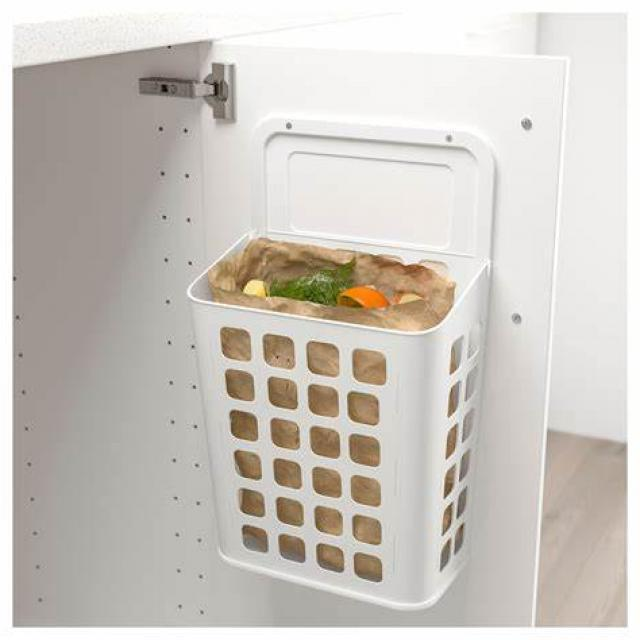garbage container: (184, 109, 520, 614)
